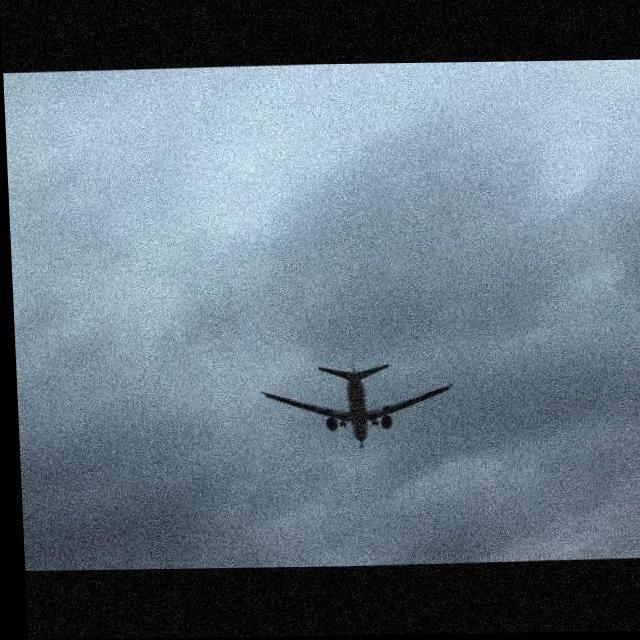airplane: (253, 357, 454, 458)
